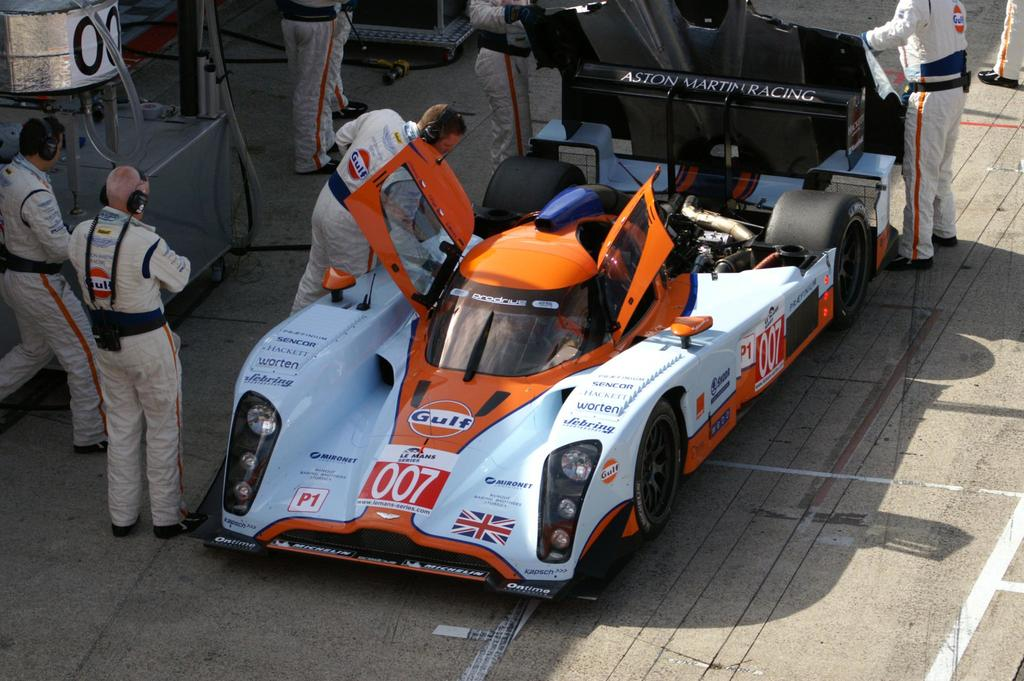Car: (202, 0, 915, 608)
